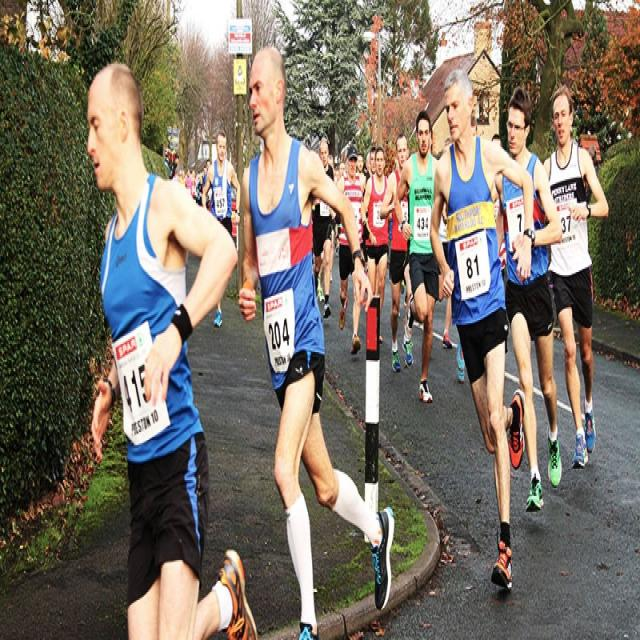body: (80, 51, 266, 638), (234, 37, 398, 638), (425, 62, 537, 598), (493, 82, 566, 520), (544, 83, 610, 467), (393, 109, 441, 406), (309, 146, 371, 304), (378, 130, 416, 376), (201, 128, 242, 330), (161, 149, 241, 237), (360, 144, 394, 344), (336, 141, 367, 358), (311, 134, 336, 322), (439, 286, 466, 391), (362, 144, 378, 274), (492, 195, 511, 288), (579, 142, 602, 204), (487, 125, 503, 158), (386, 210, 394, 270)
